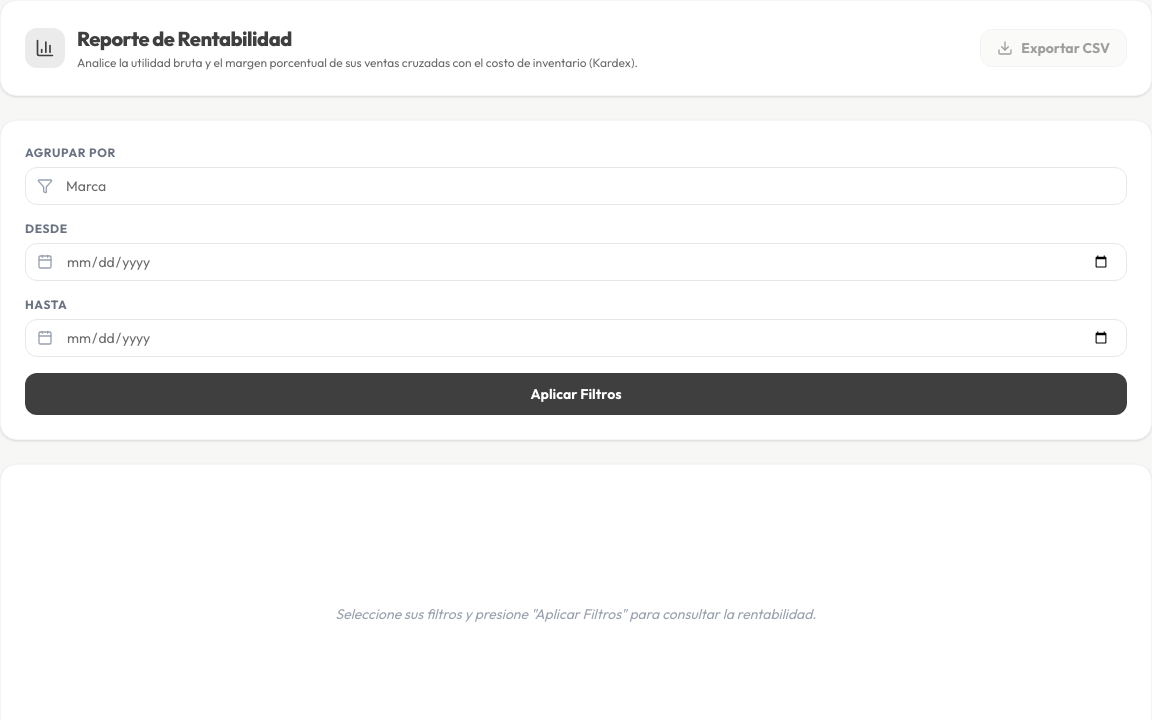
Scenario: ProfitabilityReportPage › displays negative margins in red using conditional classes
Click the button "Aplicar Filtros".
click(576, 394)  # box [25,373,1127,415]
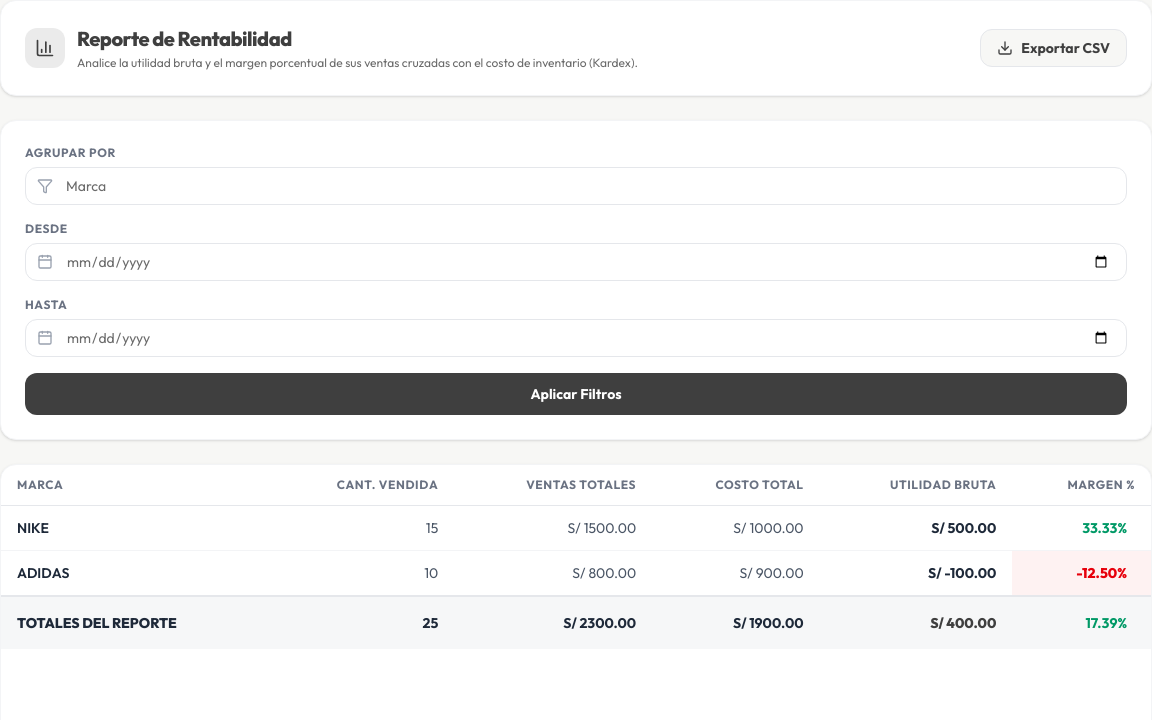
Now the text "-12.50%" is shown, box [1076,564,1127,582]
